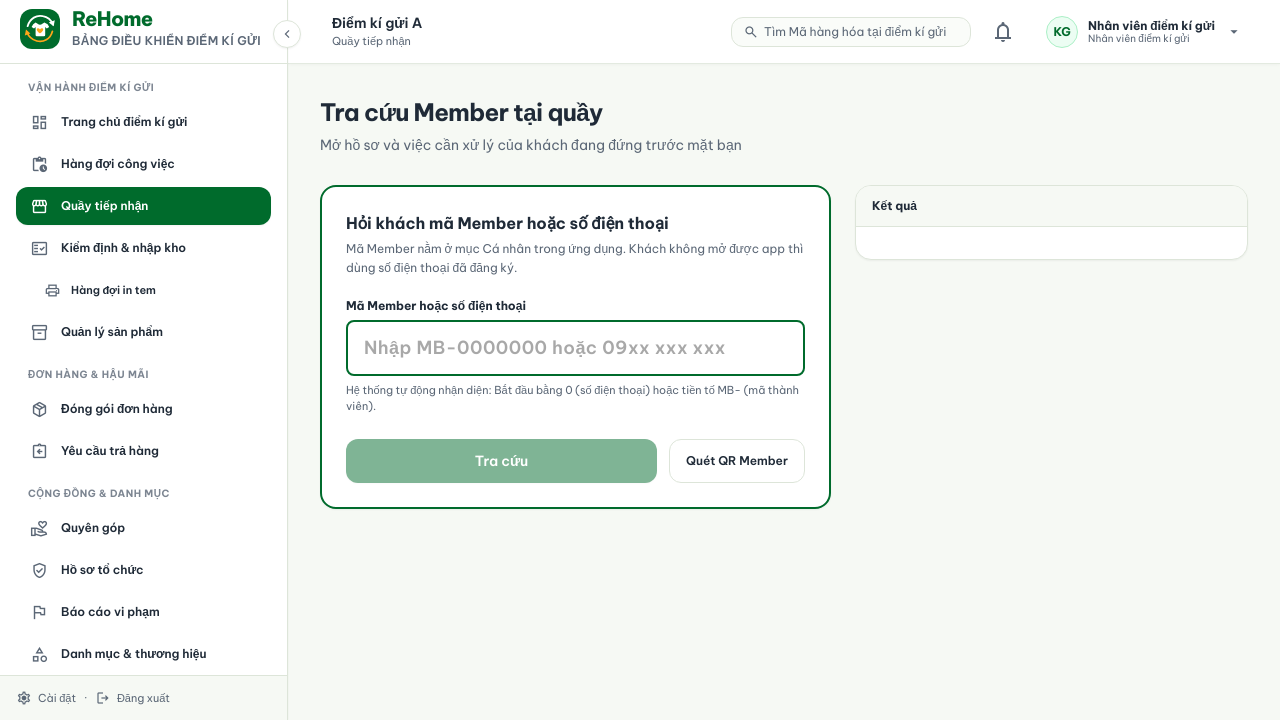
Test: QT-01 Unified Counter Lookup Input & Auto-detection › submits { phone: ... } payload when inputting a Vietnamese phone number starting with 0
This screenshot has width=1280, height=720.
expect the heading "Hỏi khách mã Member hoặc số điện thoại" is shown: met, box x1=346 y1=213 x2=669 y2=233
In the field with placeholder "Nhập MB-0000000 hoặc 09xx xxx xxx": [576, 348] box x1=346 y1=320 x2=805 y2=376, type "0901234567"
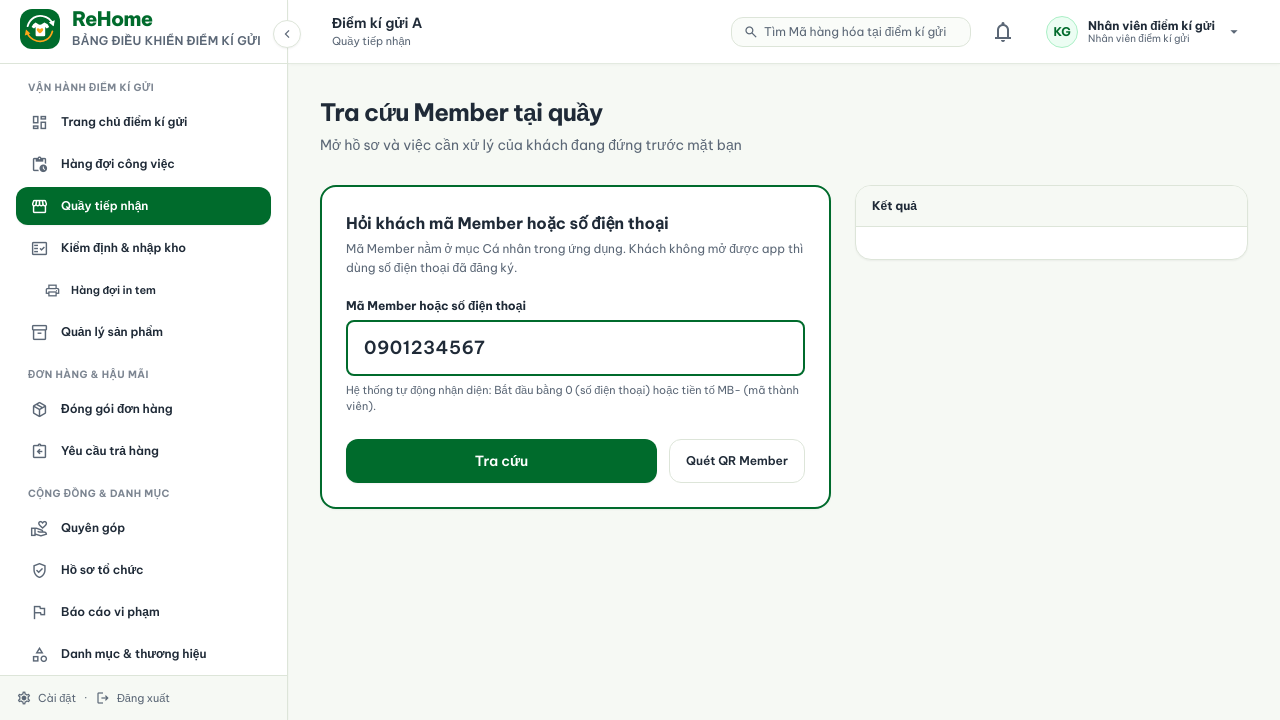
Click the button "Tra cứu": [502, 461] box x1=346 y1=439 x2=657 y2=483
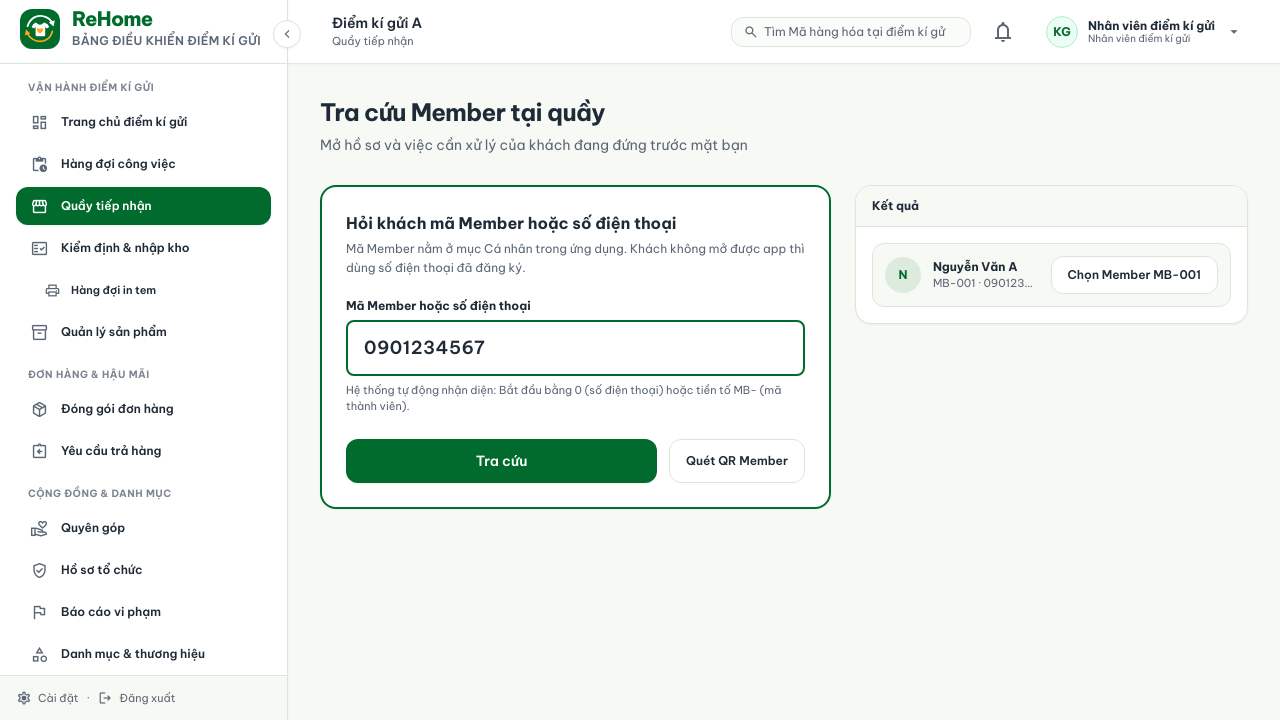
expect the text "Nguyễn Văn A" is shown: met, box x1=933 y1=258 x2=1018 y2=274
